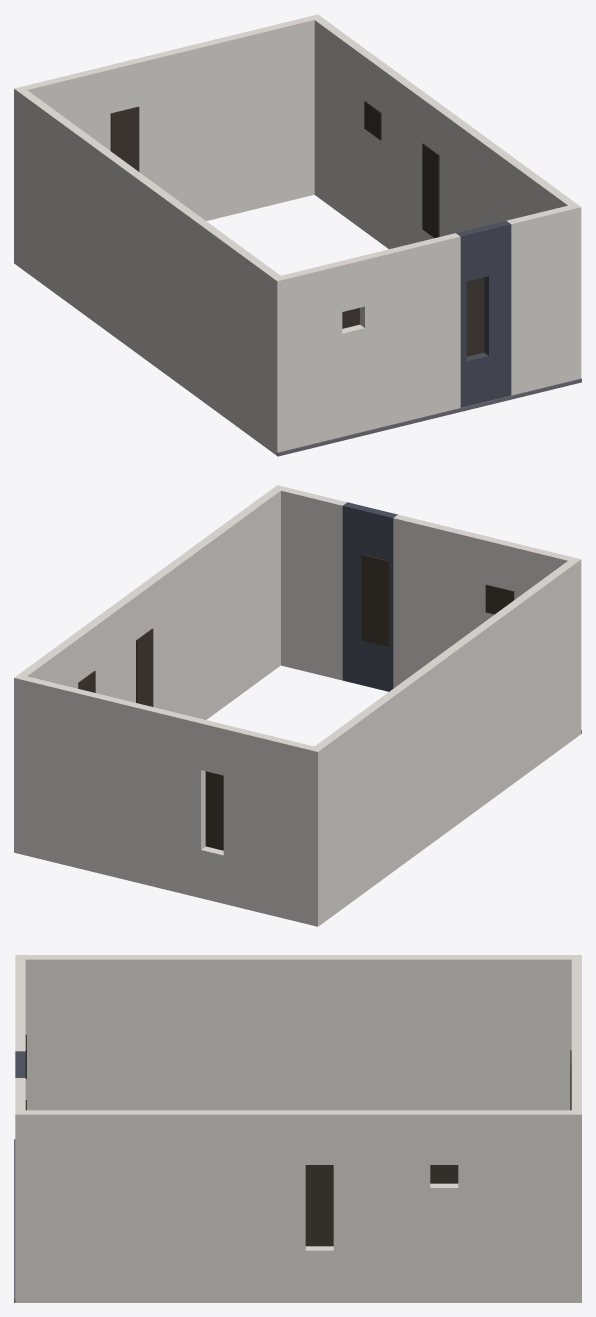
File: SM_Floor_NarrowUpperScatterHighEndR_White_546_Back_01.gltf
3 renders of one model, top to bottom at view 1: azimuth 30°, elevation 25°; view 2: azimuth 150°, elevation 25°; view 3: azimuth 270°, elevation 25°, orthographic. The views are drawn at different scales.
Visible parts, largest first — view 1: SM_Floor_NarrowUpperScatterHighEndR_White_546_Back_01; view 2: SM_Floor_NarrowUpperScatterHighEndR_White_546_Back_01; view 3: SM_Floor_NarrowUpperScatterHighEndR_White_546_Back_01.
Part boxes in pixels (box(x1,y1,x2,y2)): SM_Floor_NarrowUpperScatterHighEndR_White_546_Back_01: box(14, 14, 581, 456); SM_Floor_NarrowUpperScatterHighEndR_White_546_Back_01: box(14, 485, 581, 926); SM_Floor_NarrowUpperScatterHighEndR_White_546_Back_01: box(14, 955, 581, 1302).
Size of the model in its own units: 5.46 by 3 by 8.21.
1 material, 1 textured.
